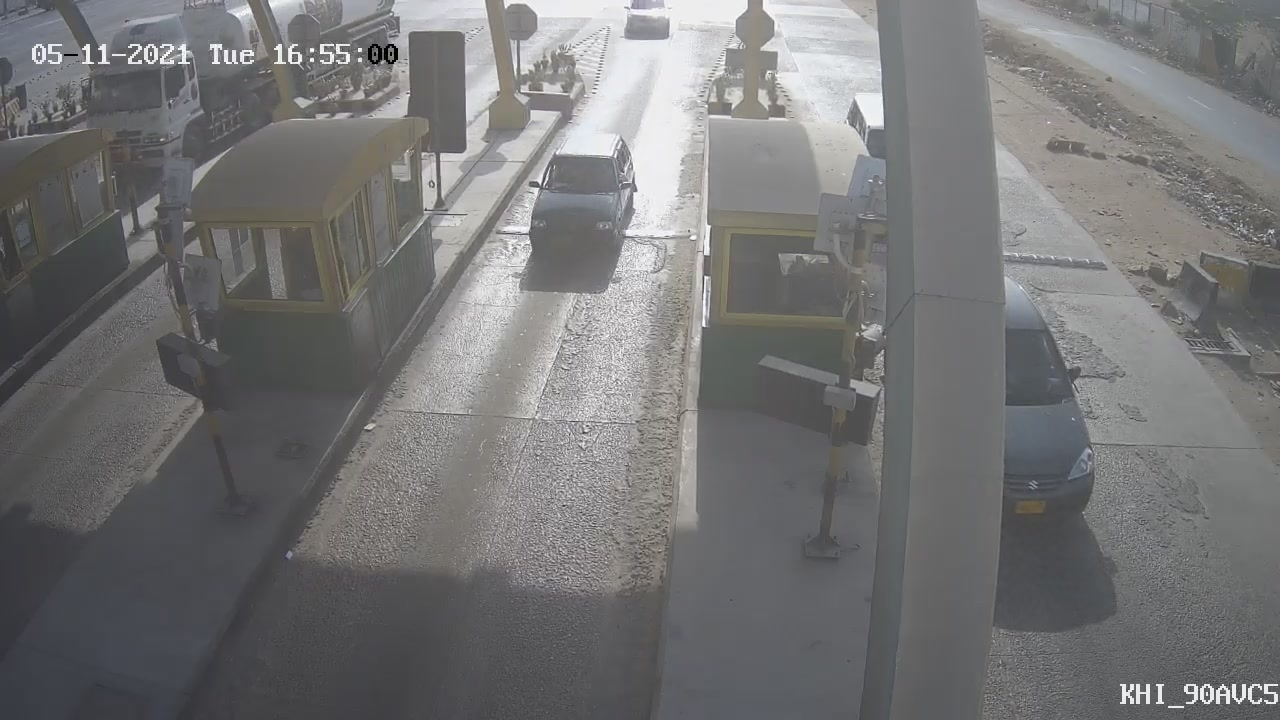F1: (503, 121, 655, 281)
